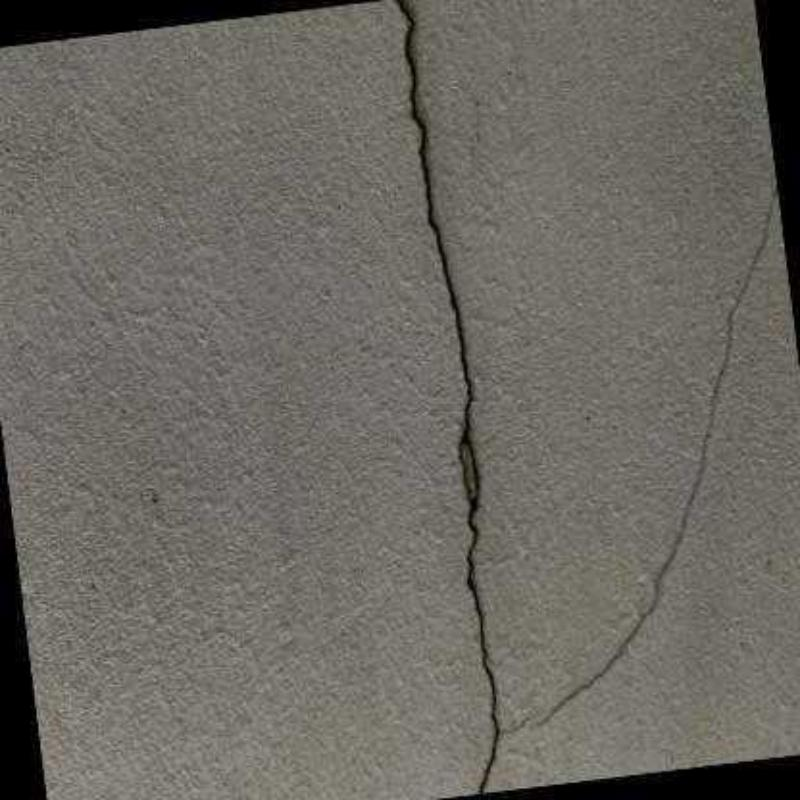pothole: (500, 185, 779, 737), (398, 1, 501, 794)
